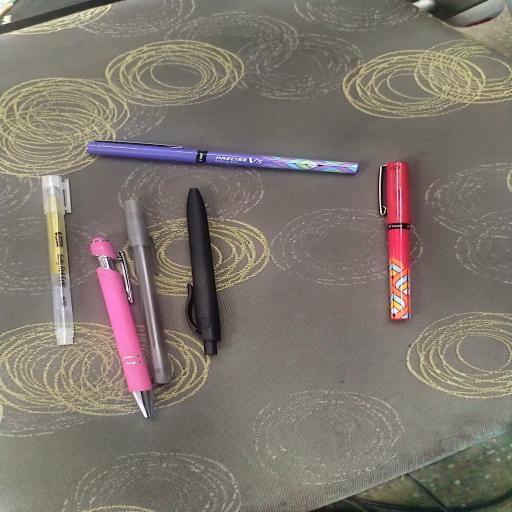pen: (91, 238, 153, 417), (87, 141, 358, 173), (125, 200, 171, 383), (186, 189, 220, 354), (42, 176, 74, 344), (379, 162, 410, 319)
